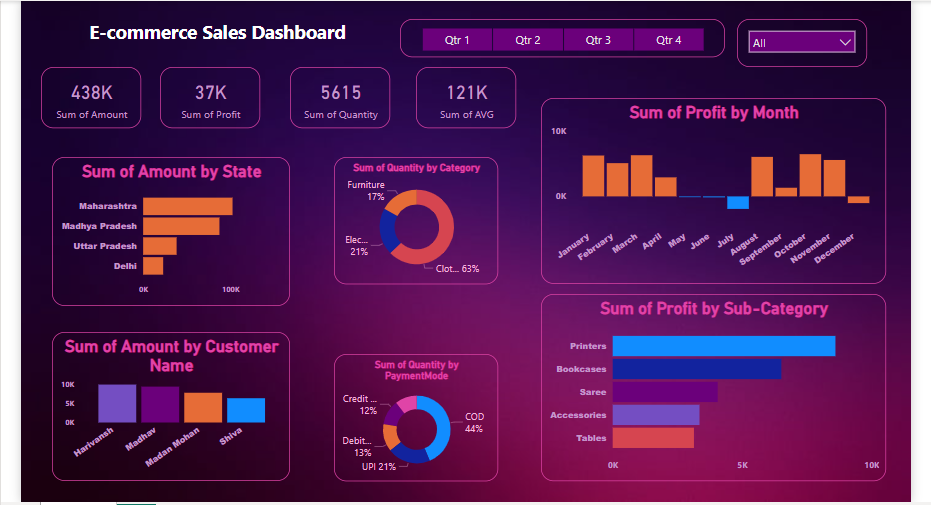

The page's visual inventory and layout, read from the dashboard file:
{"tool":"powerbi","page":{"name":"Page 1","canvas":[1280,720],"ordinal":0},"visuals":[{"type":"textbox","box":[28.7,14.4,515.9,54.6],"z":0},{"type":"columnChart","fields":{"Y":["Details.Profit"],"Category":["Orders.Order Date.Variation.Date Hierarchy.Month"]},"box":[747.3,139.4,495.8,267.3],"z":1000},{"type":"barChart","fields":{"Category":["Details.Sub-Category"],"Y":["Details.Profit"]},"box":[747.3,421.1,495.8,268.7],"z":2000},{"type":"donutChart","fields":{"Category":["Details.Category"],"Y":["Details.Quantity"]},"box":[449.8,224.2,235.7,182.5],"z":3000},{"type":"donutChart","fields":{"Y":["Details.Quantity"],"Category":["Details.PaymentMode"]},"box":[449.8,507.3,235.7,182.5],"z":4000},{"type":"card","fields":{"Values":["Details.Amount"]},"box":[28.7,94.9,143.7,87.7],"z":5000},{"type":"card","fields":{"Values":["Details.Profit"]},"box":[199.8,94.9,143.7,87.7],"z":6000},{"type":"card","fields":{"Values":["Details.Quantity"]},"box":[386.6,94.9,143.7,87.7],"z":7000},{"type":"card","fields":{"Values":["Details.AVG"]},"box":[567.7,94.9,143.7,87.7],"z":8000},{"type":"barChart","fields":{"Category":["Orders.State"],"Y":["Details.Amount"]},"box":[44.6,224.2,342,214.1],"z":9000},{"type":"columnChart","fields":{"Category":["Orders.Customer Name"],"Y":["Details.Amount"]},"box":[44.6,475.7,342,214.1],"z":10000},{"type":"slicer","fields":{"Values":["Orders.Order Date.Variation.Date Hierarchy.Quarter"]},"box":[544.7,25.9,467.1,54.6],"z":11001},{"type":"slicer","fields":{"Values":["Orders.State"]},"box":[1029,25.9,186.8,69],"z":11002}]}

Visuals, with their boxes on the page's 1280x720 design canvas (x1, y1, x2, y2). These are canvas units, not pixel positions in the 931x505 screenshot, which may show the page scaled, cropped or inside an application window:
textbox: crop(29, 14, 545, 69)
columnChart - Details.Profit x Orders.Order Date.Variation.Date Hierarchy.Month: crop(747, 139, 1243, 407)
barChart - Details.Sub-Category x Details.Profit: crop(747, 421, 1243, 690)
donutChart - Details.Category x Details.Quantity: crop(450, 224, 686, 407)
donutChart - Details.Quantity x Details.PaymentMode: crop(450, 507, 686, 690)
card - Details.Amount: crop(29, 95, 172, 183)
card - Details.Profit: crop(200, 95, 344, 183)
card - Details.Quantity: crop(387, 95, 530, 183)
card - Details.AVG: crop(568, 95, 711, 183)
barChart - Orders.State x Details.Amount: crop(45, 224, 387, 438)
columnChart - Orders.Customer Name x Details.Amount: crop(45, 476, 387, 690)
slicer - Orders.Order Date.Variation.Date Hierarchy.Quarter: crop(545, 26, 1012, 80)
slicer - Orders.State: crop(1029, 26, 1216, 95)
